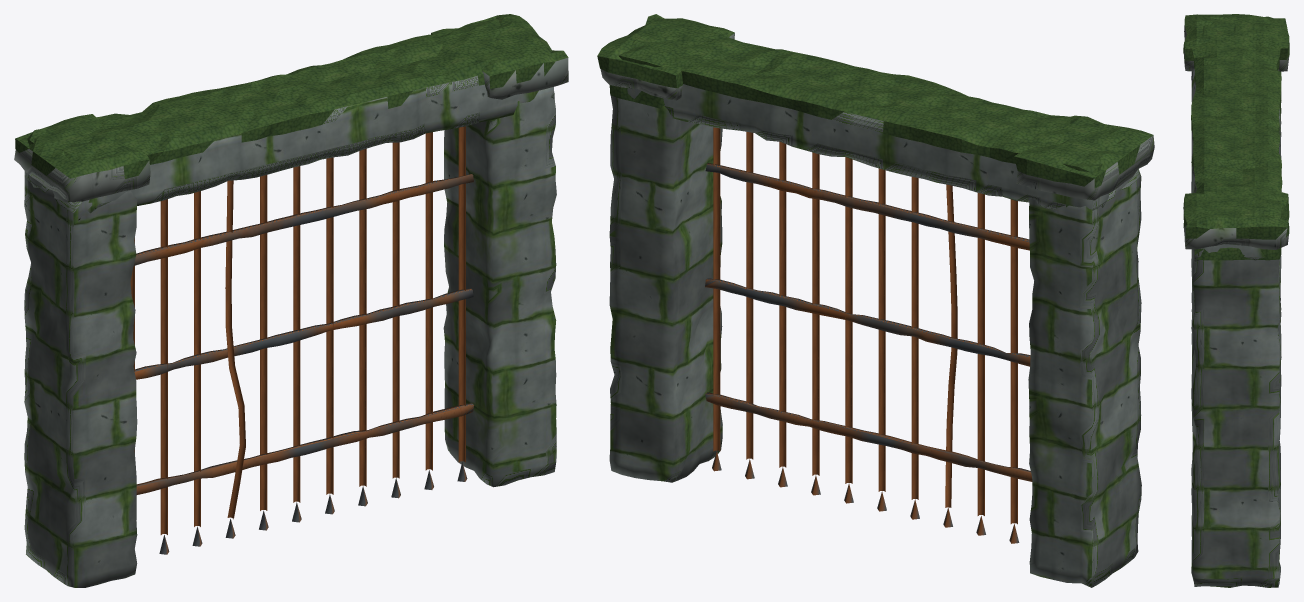
Rendered from ancient_iron_gate.glb.
3 views of the same model, side by side, from view 1: azimuth 30°, elevation 25°; view 2: azimuth 150°, elevation 25°; view 3: azimuth 270°, elevation 25° (orthographic). The views are drawn at different scales.
Visible parts, largest first — view 1: ancient_iron_gate__stone_wall, ancient_iron_gate__moss, ancient_iron_gate__iron_rusty, ancient_iron_gate__iron, ancient_iron_gate__stone_block; view 2: ancient_iron_gate__stone_wall, ancient_iron_gate__moss, ancient_iron_gate__iron_rusty, ancient_iron_gate__iron, ancient_iron_gate__stone_block; view 3: ancient_iron_gate__stone_wall, ancient_iron_gate__moss, ancient_iron_gate__stone_block.
Part boxes in pixels (bbox=[...]): ancient_iron_gate__stone_wall: bbox=[24, 75, 556, 587]; ancient_iron_gate__moss: bbox=[15, 14, 568, 178]; ancient_iron_gate__iron_rusty: bbox=[130, 126, 465, 534]; ancient_iron_gate__iron: bbox=[133, 174, 473, 554]; ancient_iron_gate__stone_block: bbox=[14, 57, 568, 201]; ancient_iron_gate__stone_wall: bbox=[609, 84, 1141, 587]; ancient_iron_gate__moss: bbox=[597, 14, 1153, 207]; ancient_iron_gate__iron_rusty: bbox=[713, 127, 1017, 524]; ancient_iron_gate__iron: bbox=[705, 163, 1032, 543]; ancient_iron_gate__stone_block: bbox=[600, 33, 1154, 200]; ancient_iron_gate__stone_wall: bbox=[1191, 68, 1281, 587]; ancient_iron_gate__moss: bbox=[1183, 14, 1289, 260]; ancient_iron_gate__stone_block: bbox=[1183, 25, 1289, 249].
Bounding box in the file's own units: 4.56 × 3.69 × 0.9583.
Materials: 5 (5 with a texture image).
